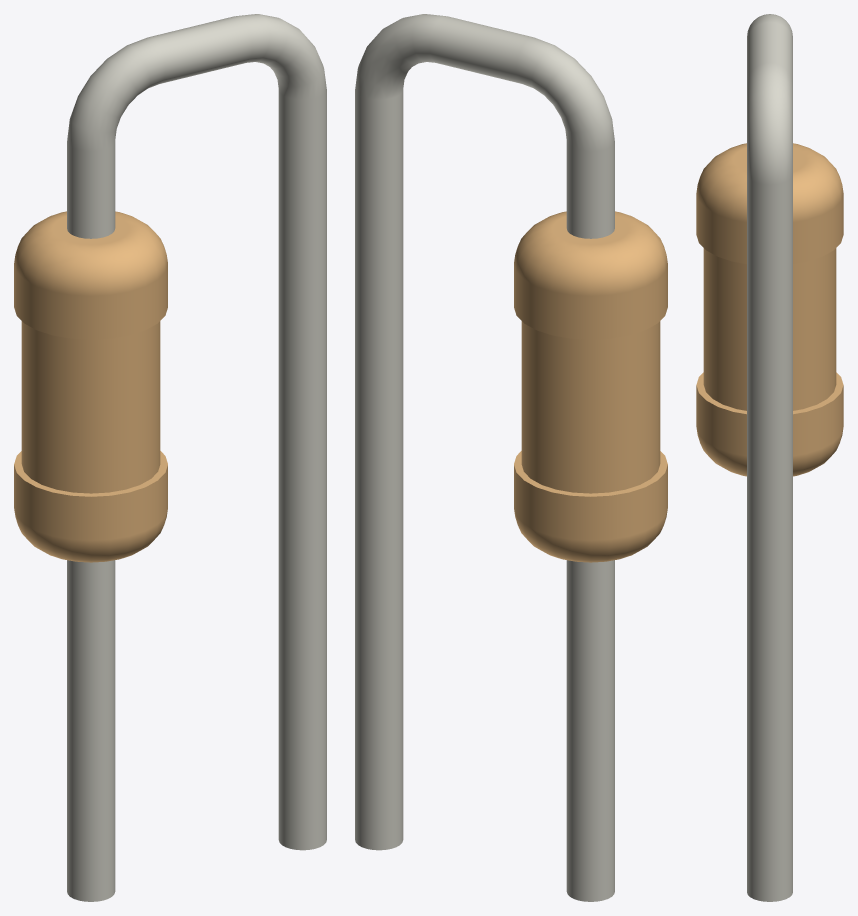
File: Resistor_THT__R_Axial_DIN0204_L3.6mm_D1.6mm_P2.54mm_Vertical.glb
3 views of the same model, side by side, from view 1: azimuth 30°, elevation 25°; view 2: azimuth 150°, elevation 25°; view 3: azimuth 270°, elevation 25° (orthographic). The views are drawn at different scales.
Visible parts, largest first — view 1: R_Axial_DIN0204_L36mm_D16mm_P254mm_Vertical; view 2: R_Axial_DIN0204_L36mm_D16mm_P254mm_Vertical; view 3: R_Axial_DIN0204_L36mm_D16mm_P254mm_Vertical.
Boxes of the visible parts, bbox=[...] form: R_Axial_DIN0204_L36mm_D16mm_P254mm_Vertical: bbox=[14, 14, 326, 901]; R_Axial_DIN0204_L36mm_D16mm_P254mm_Vertical: bbox=[355, 14, 667, 901]; R_Axial_DIN0204_L36mm_D16mm_P254mm_Vertical: bbox=[696, 14, 843, 901].
Size of the model in its own units: 0.00359 by 0.0096 by 0.0016.
